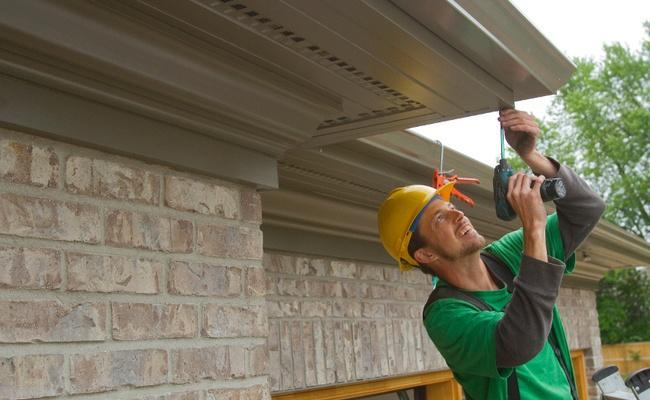helmet: (376, 176, 459, 279)
no-vest: (431, 253, 565, 398)
person: (371, 167, 615, 400)
